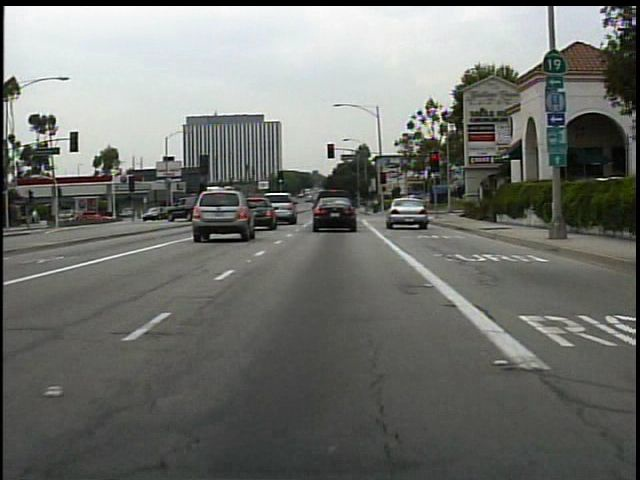person: (371, 196, 382, 216)
